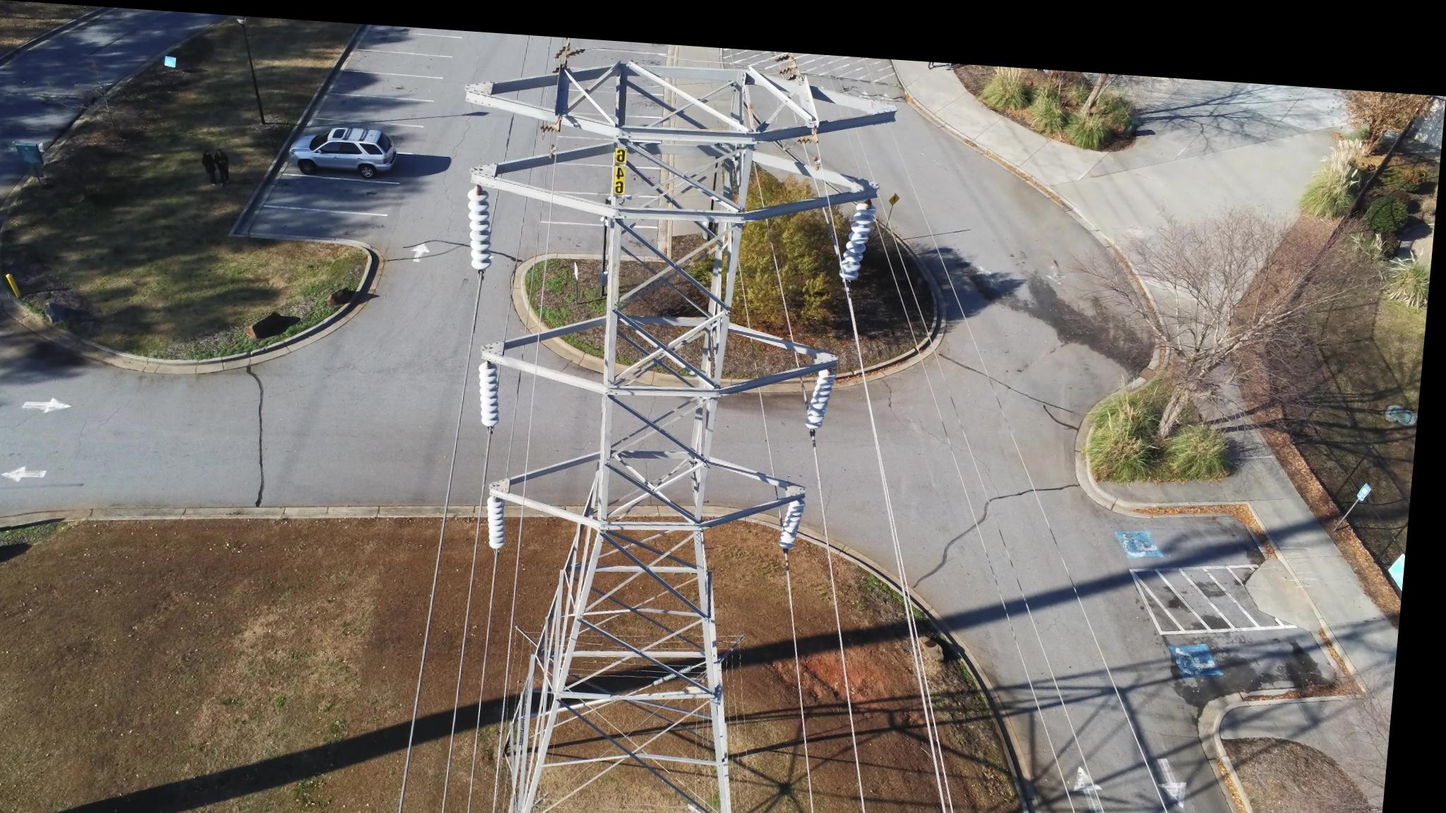tower: (392, 48, 902, 813)
